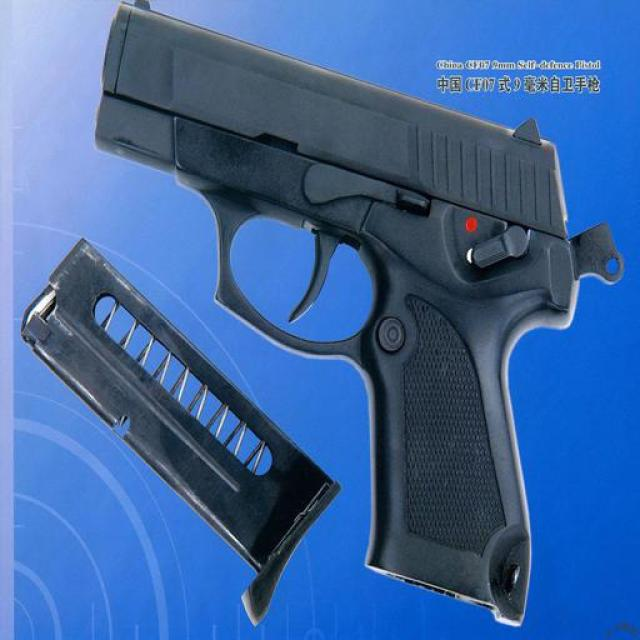pistol: (93, 1, 623, 623)
